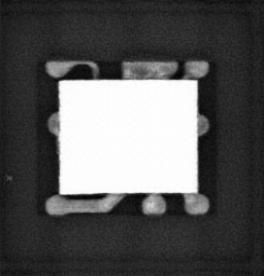DIE_INK: (4, 173, 14, 181)
